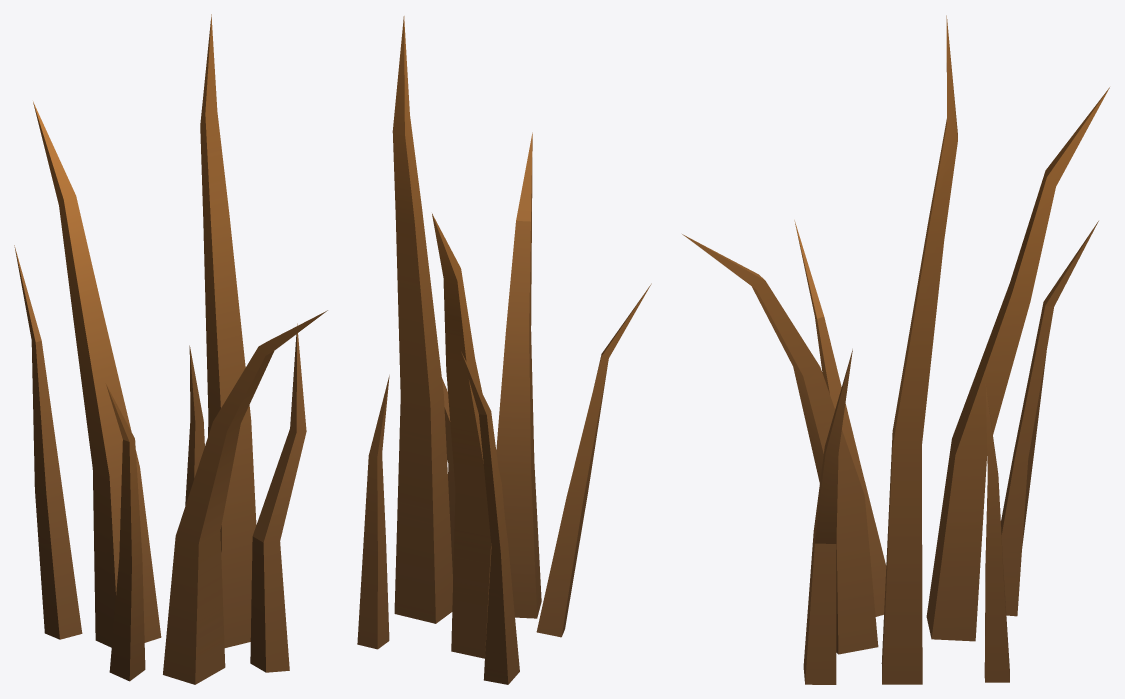
The model's file is Autumn_Grass_02.glb.
The picture shows the model from 3 angles, left to right: view 1: azimuth 30°, elevation 25°; view 2: azimuth 150°, elevation 25°; view 3: azimuth 270°, elevation 25°; orthographic projection. The views are drawn at different scales.
Parts seen in each view (by area): view 1: Autumn_Grass_02_LOD0; view 2: Autumn_Grass_02_LOD0; view 3: Autumn_Grass_02_LOD0.
Boxes of the visible parts, x1,y1,x2,y2 form: Autumn_Grass_02_LOD0: (14, 14, 327, 684); Autumn_Grass_02_LOD0: (357, 16, 651, 684); Autumn_Grass_02_LOD0: (682, 15, 1109, 684).
Size of what is drawn, in the model's own units: 0.1905 by 0.5106 by 0.2991.
Materials: 1 (1 with a texture image).
